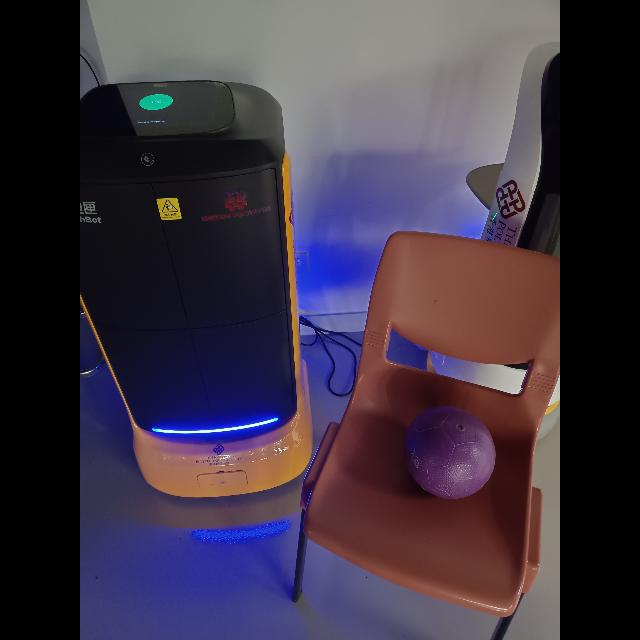P: (404, 405, 496, 499)
